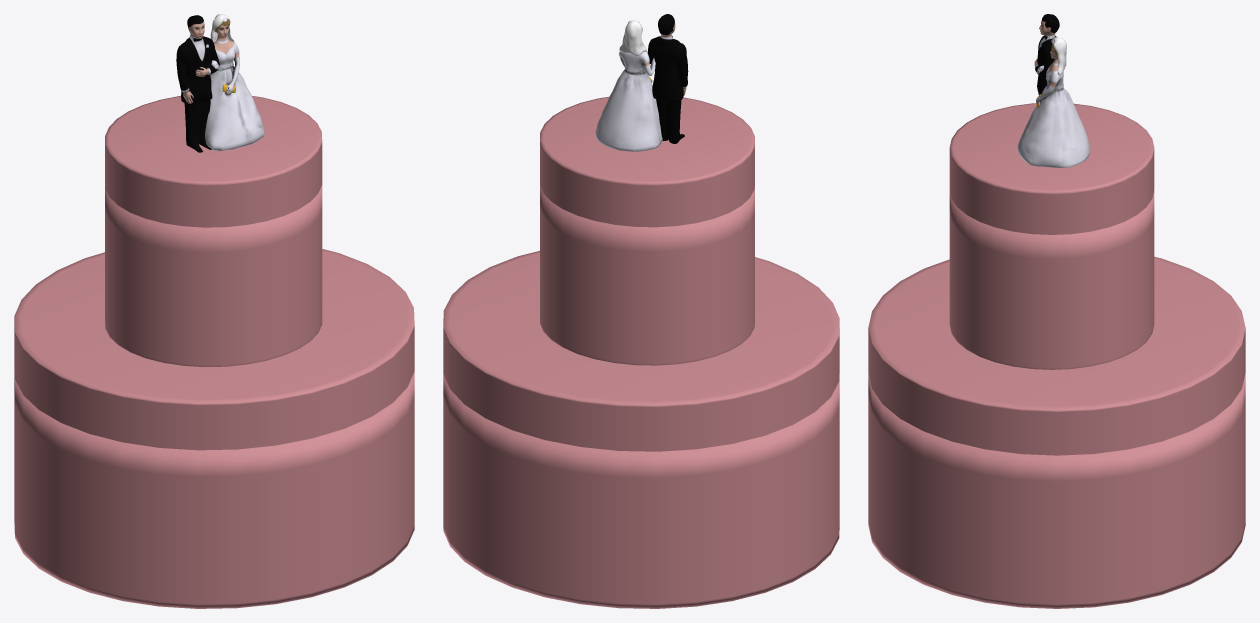
Rendered from 2-tier-blush-none-bridegroom.glb.
3 renders of one model, left to right at view 1: azimuth 30°, elevation 25°; view 2: azimuth 150°, elevation 25°; view 3: azimuth 270°, elevation 25°, orthographic. The views are drawn at different scales.
Visible parts, largest first — view 1: Cylinder.023, Cylinder.013, 13501_Cake_Topper_Bride_Groom_v1_L1.003; view 2: Cylinder.023, Cylinder.013, 13501_Cake_Topper_Bride_Groom_v1_L1.003; view 3: Cylinder.023, Cylinder.013, 13501_Cake_Topper_Bride_Groom_v1_L1.003.
Boxes of the visible parts, x1,y1,x2,y2 form: Cylinder.023: [14, 249, 414, 608]; Cylinder.013: [105, 96, 322, 366]; 13501_Cake_Topper_Bride_Groom_v1_L1.003: [176, 14, 264, 152]; Cylinder.023: [443, 251, 839, 608]; Cylinder.013: [540, 97, 754, 365]; 13501_Cake_Topper_Bride_Groom_v1_L1.003: [595, 14, 688, 151]; Cylinder.023: [868, 256, 1245, 608]; Cylinder.013: [949, 103, 1154, 369]; 13501_Cake_Topper_Bride_Groom_v1_L1.003: [1017, 14, 1089, 167].
Bounding box in the file's own units: 3.4 × 4.79 × 3.27.
Materials: 2 (1 with a texture image).
